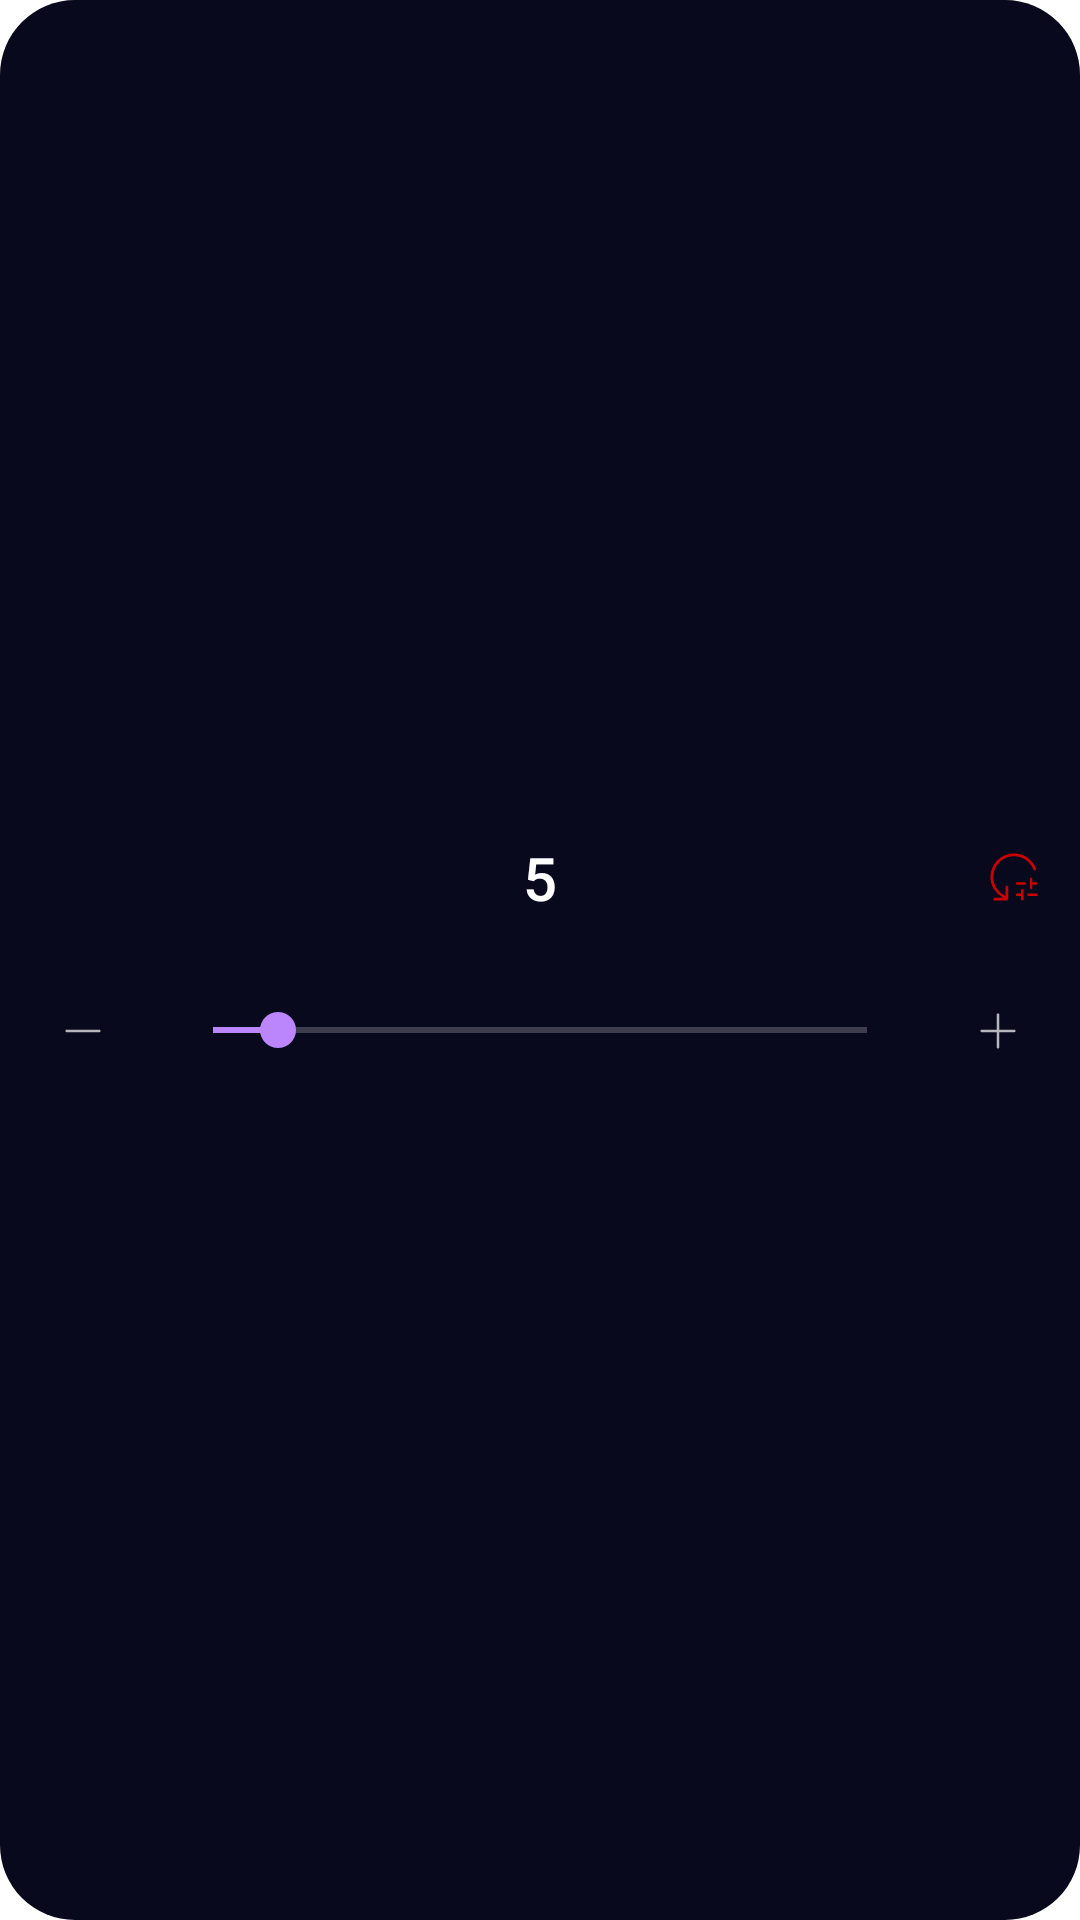

Screen size 1080px×1920px. Icon name, then its box in pixels as (x1, y1, x2, y2):
Plus: (980, 1013, 1016, 1049)
Reset: (990, 853, 1038, 901)
